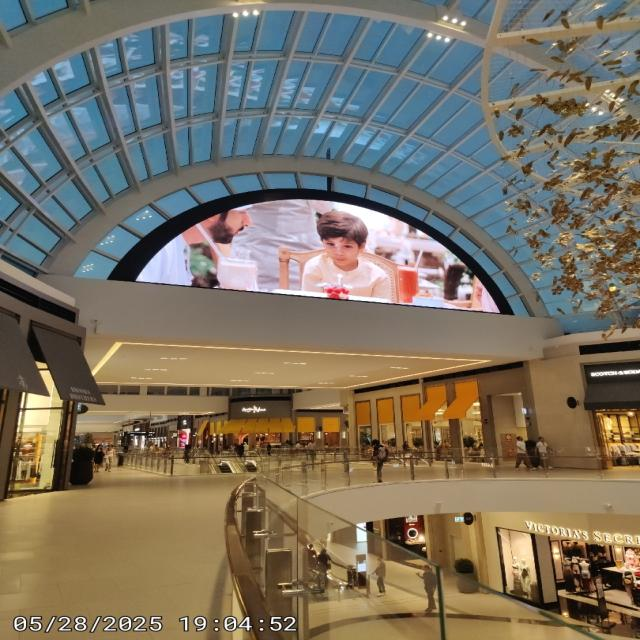digital-board-big: (133, 198, 504, 315)
